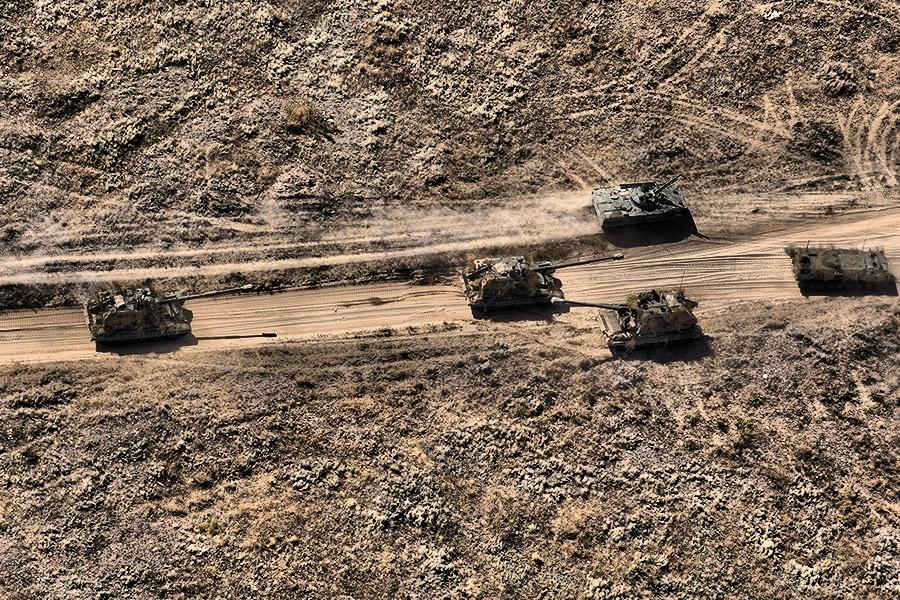military-vehicle: (83, 281, 255, 342), (548, 291, 709, 354), (460, 253, 628, 310), (591, 174, 692, 229), (790, 243, 890, 288)
